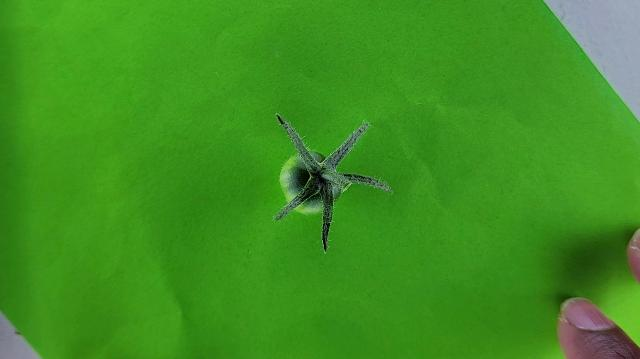Fruit Maturation: (277, 148, 343, 215)
